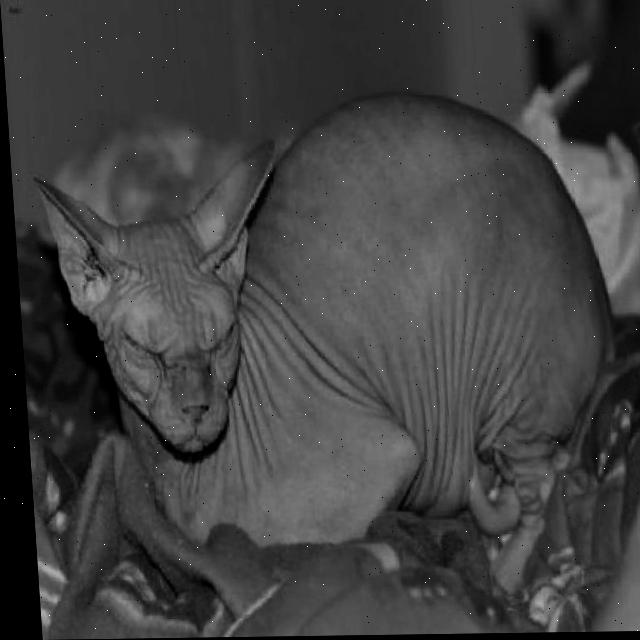Cat: (27, 87, 630, 582)
